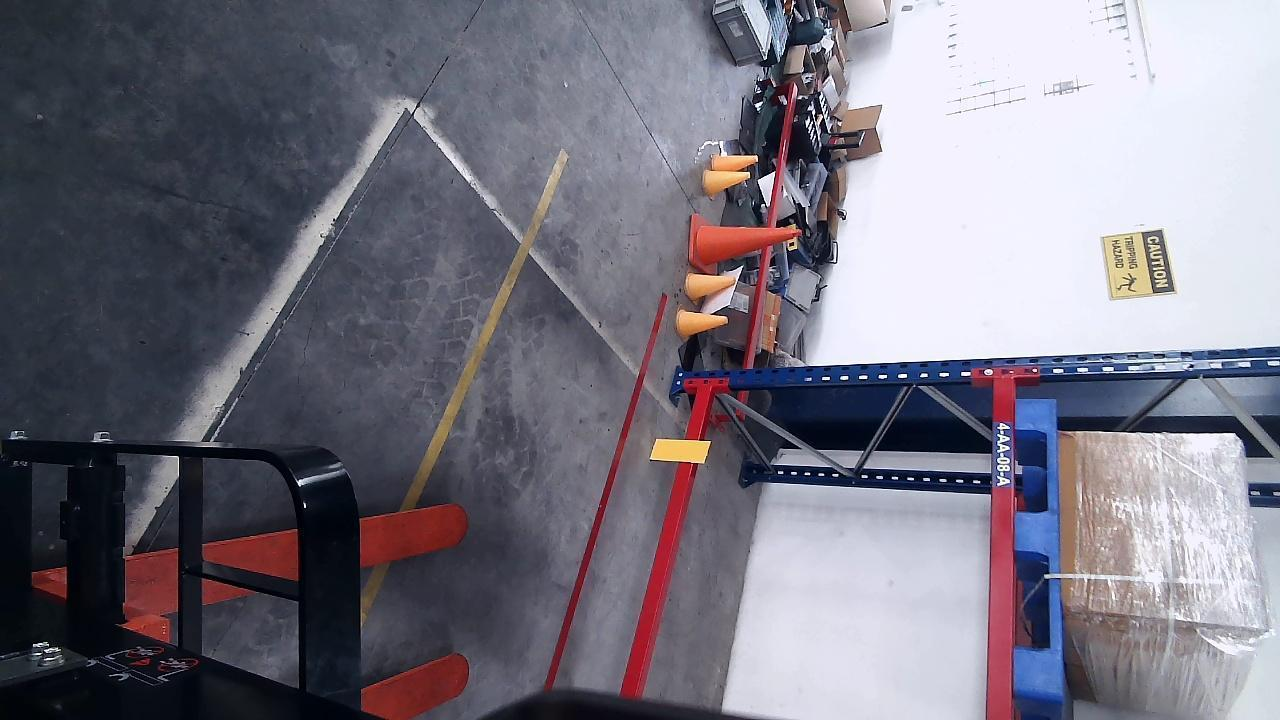red_line: (541, 292, 670, 690)
yellow_line: (357, 147, 572, 628)
